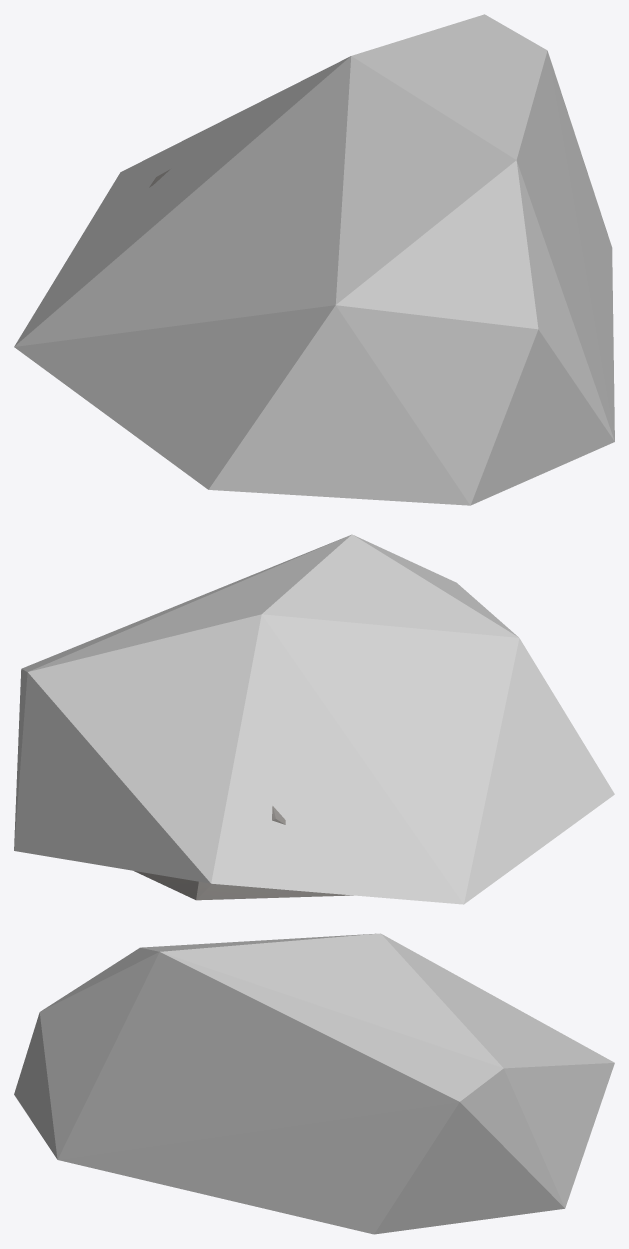
Rendered from SM_Rock_02.fbx.
3 renders of one model, top to bottom at view 1: azimuth 30°, elevation 25°; view 2: azimuth 150°, elevation 25°; view 3: azimuth 270°, elevation 25°, orthographic. The views are drawn at different scales.
Visible parts, largest first — view 1: SM_Rock_02_ConvexHulls; view 2: SM_Rock_02_ConvexHulls, SM_Rock_02; view 3: SM_Rock_02_ConvexHulls.
Part boxes in pixels (box(x1,y1,x2,y2)): SM_Rock_02_ConvexHulls: box(14, 14, 614, 505); SM_Rock_02_ConvexHulls: box(14, 534, 614, 904); SM_Rock_02: box(134, 806, 353, 900); SM_Rock_02_ConvexHulls: box(14, 933, 614, 1234).
Bounding box in the file's own units: 33.05 × 39.14 × 14.78.
Materials: 2 (1 with a texture image).
